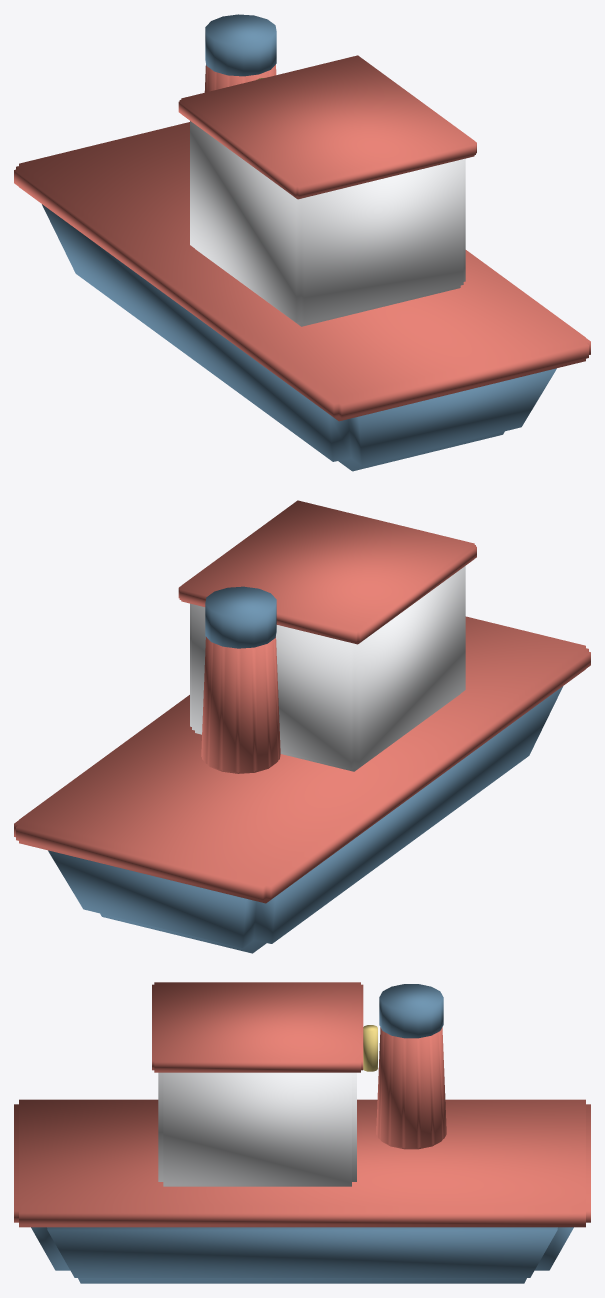
Rendered from harbor-tug.glb.
The picture shows the model from 3 angles, top to bottom: view 1: azimuth 30°, elevation 25°; view 2: azimuth 150°, elevation 25°; view 3: azimuth 270°, elevation 25°; orthographic projection. The views are drawn at different scales.
Parts seen in each view (by area): view 1: Hull, Bridge, Funnel; view 2: Hull, Bridge, Funnel; view 3: Hull, Bridge, Funnel.
Part boxes in pixels (x1=…): Hull: x1=14, y1=122, x2=590, y2=471; Bridge: x1=178, y1=55, x2=476, y2=326; Funnel: x1=204, y1=14, x2=276, y2=92; Hull: x1=14, y1=616, x2=590, y2=953; Bridge: x1=178, y1=500, x2=476, y2=771; Funnel: x1=201, y1=586, x2=280, y2=773; Hull: x1=14, y1=1099, x2=590, y2=1283; Bridge: x1=152, y1=982, x2=363, y2=1186; Funnel: x1=363, y1=984, x2=446, y2=1149.
Size of the model in its own units: 2.05 by 2.18 by 4.5.
